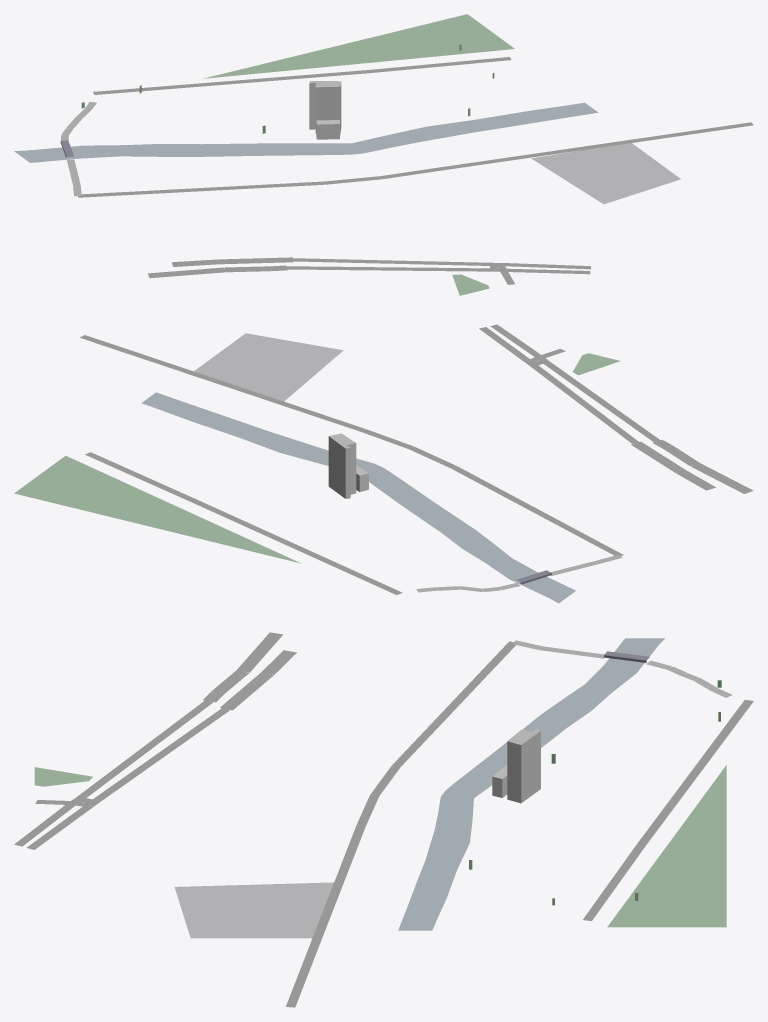
3 views of the same model, one above another, from view 1: azimuth 30°, elevation 25°; view 2: azimuth 150°, elevation 25°; view 3: azimuth 270°, elevation 25° (orthographic). The views are drawn at different scales.
Size of the model in its own units: 640 by 56.47 by 535.
